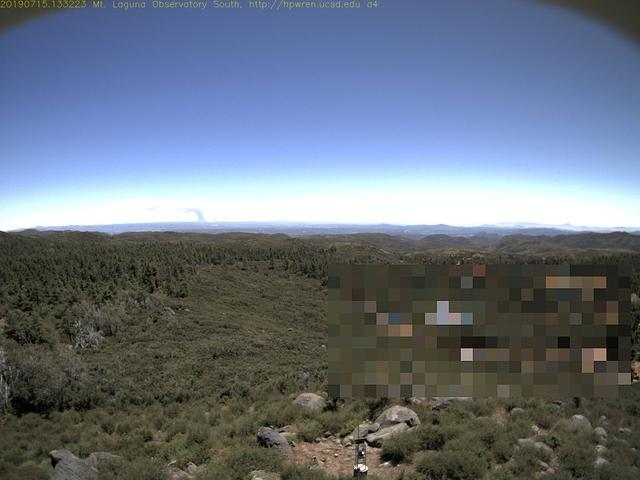smoke: (183, 203, 211, 227)
